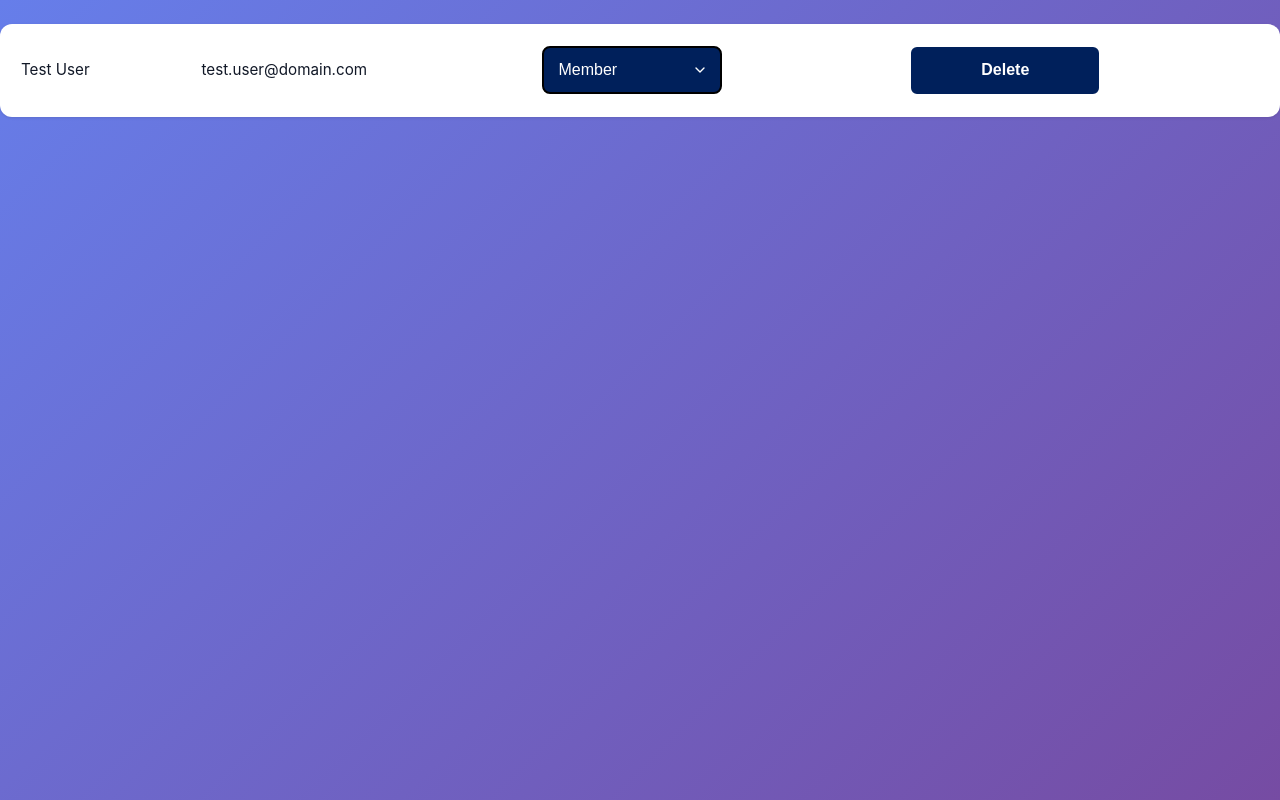
Test: MemberRow › Reset after error
Click the button "Delete".
click(1005, 70)  # box [909,45,1101,96]
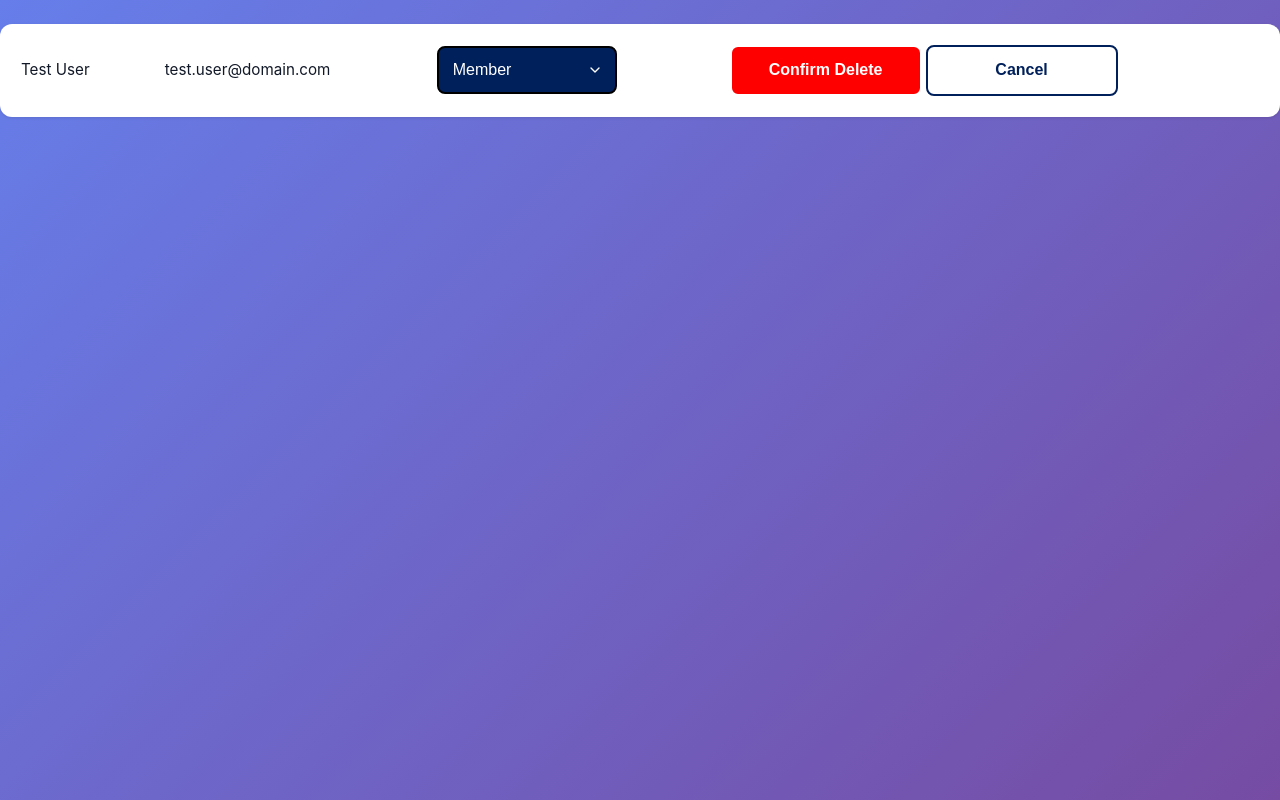
Click the button "Confirm Delete".
click(826, 70)  # box [730,45,922,96]
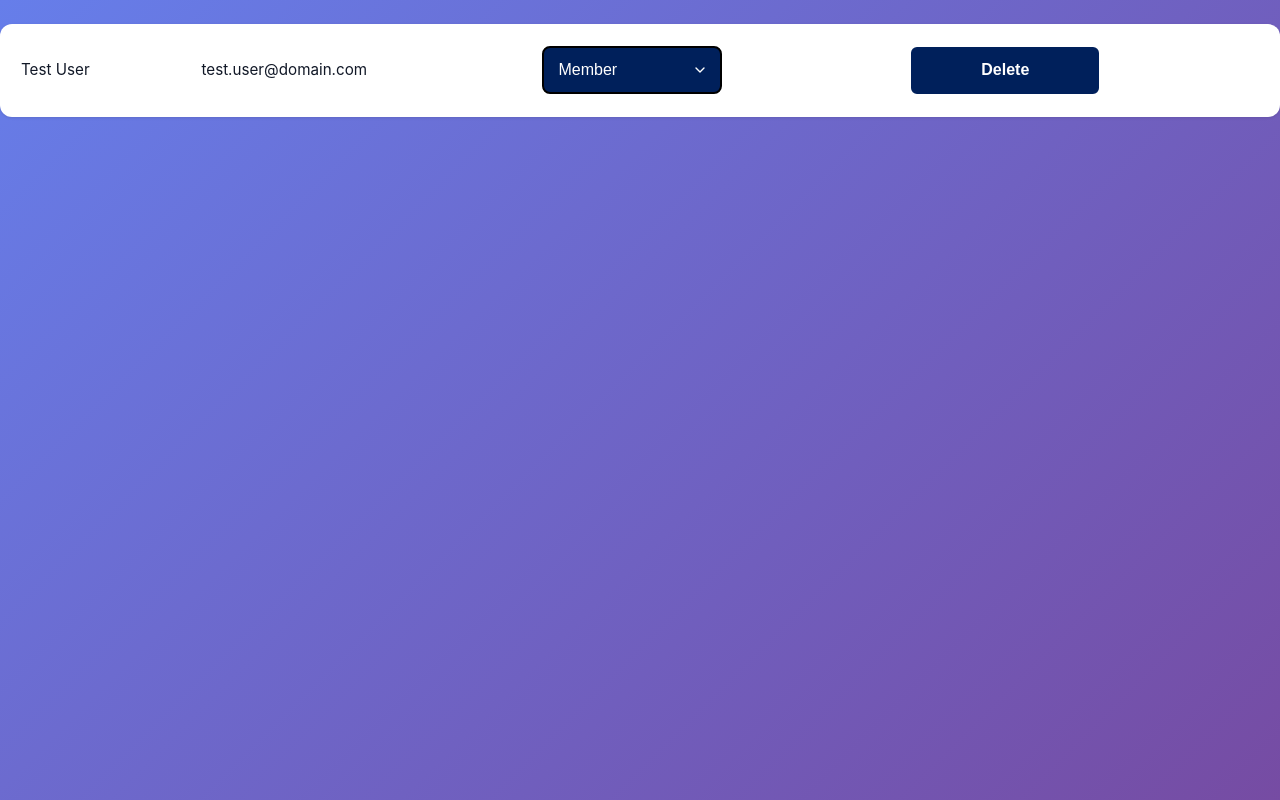
Expected: the button "Delete" is shown, [909,45,1101,96]
Now the button "Confirm Delete" is gone
